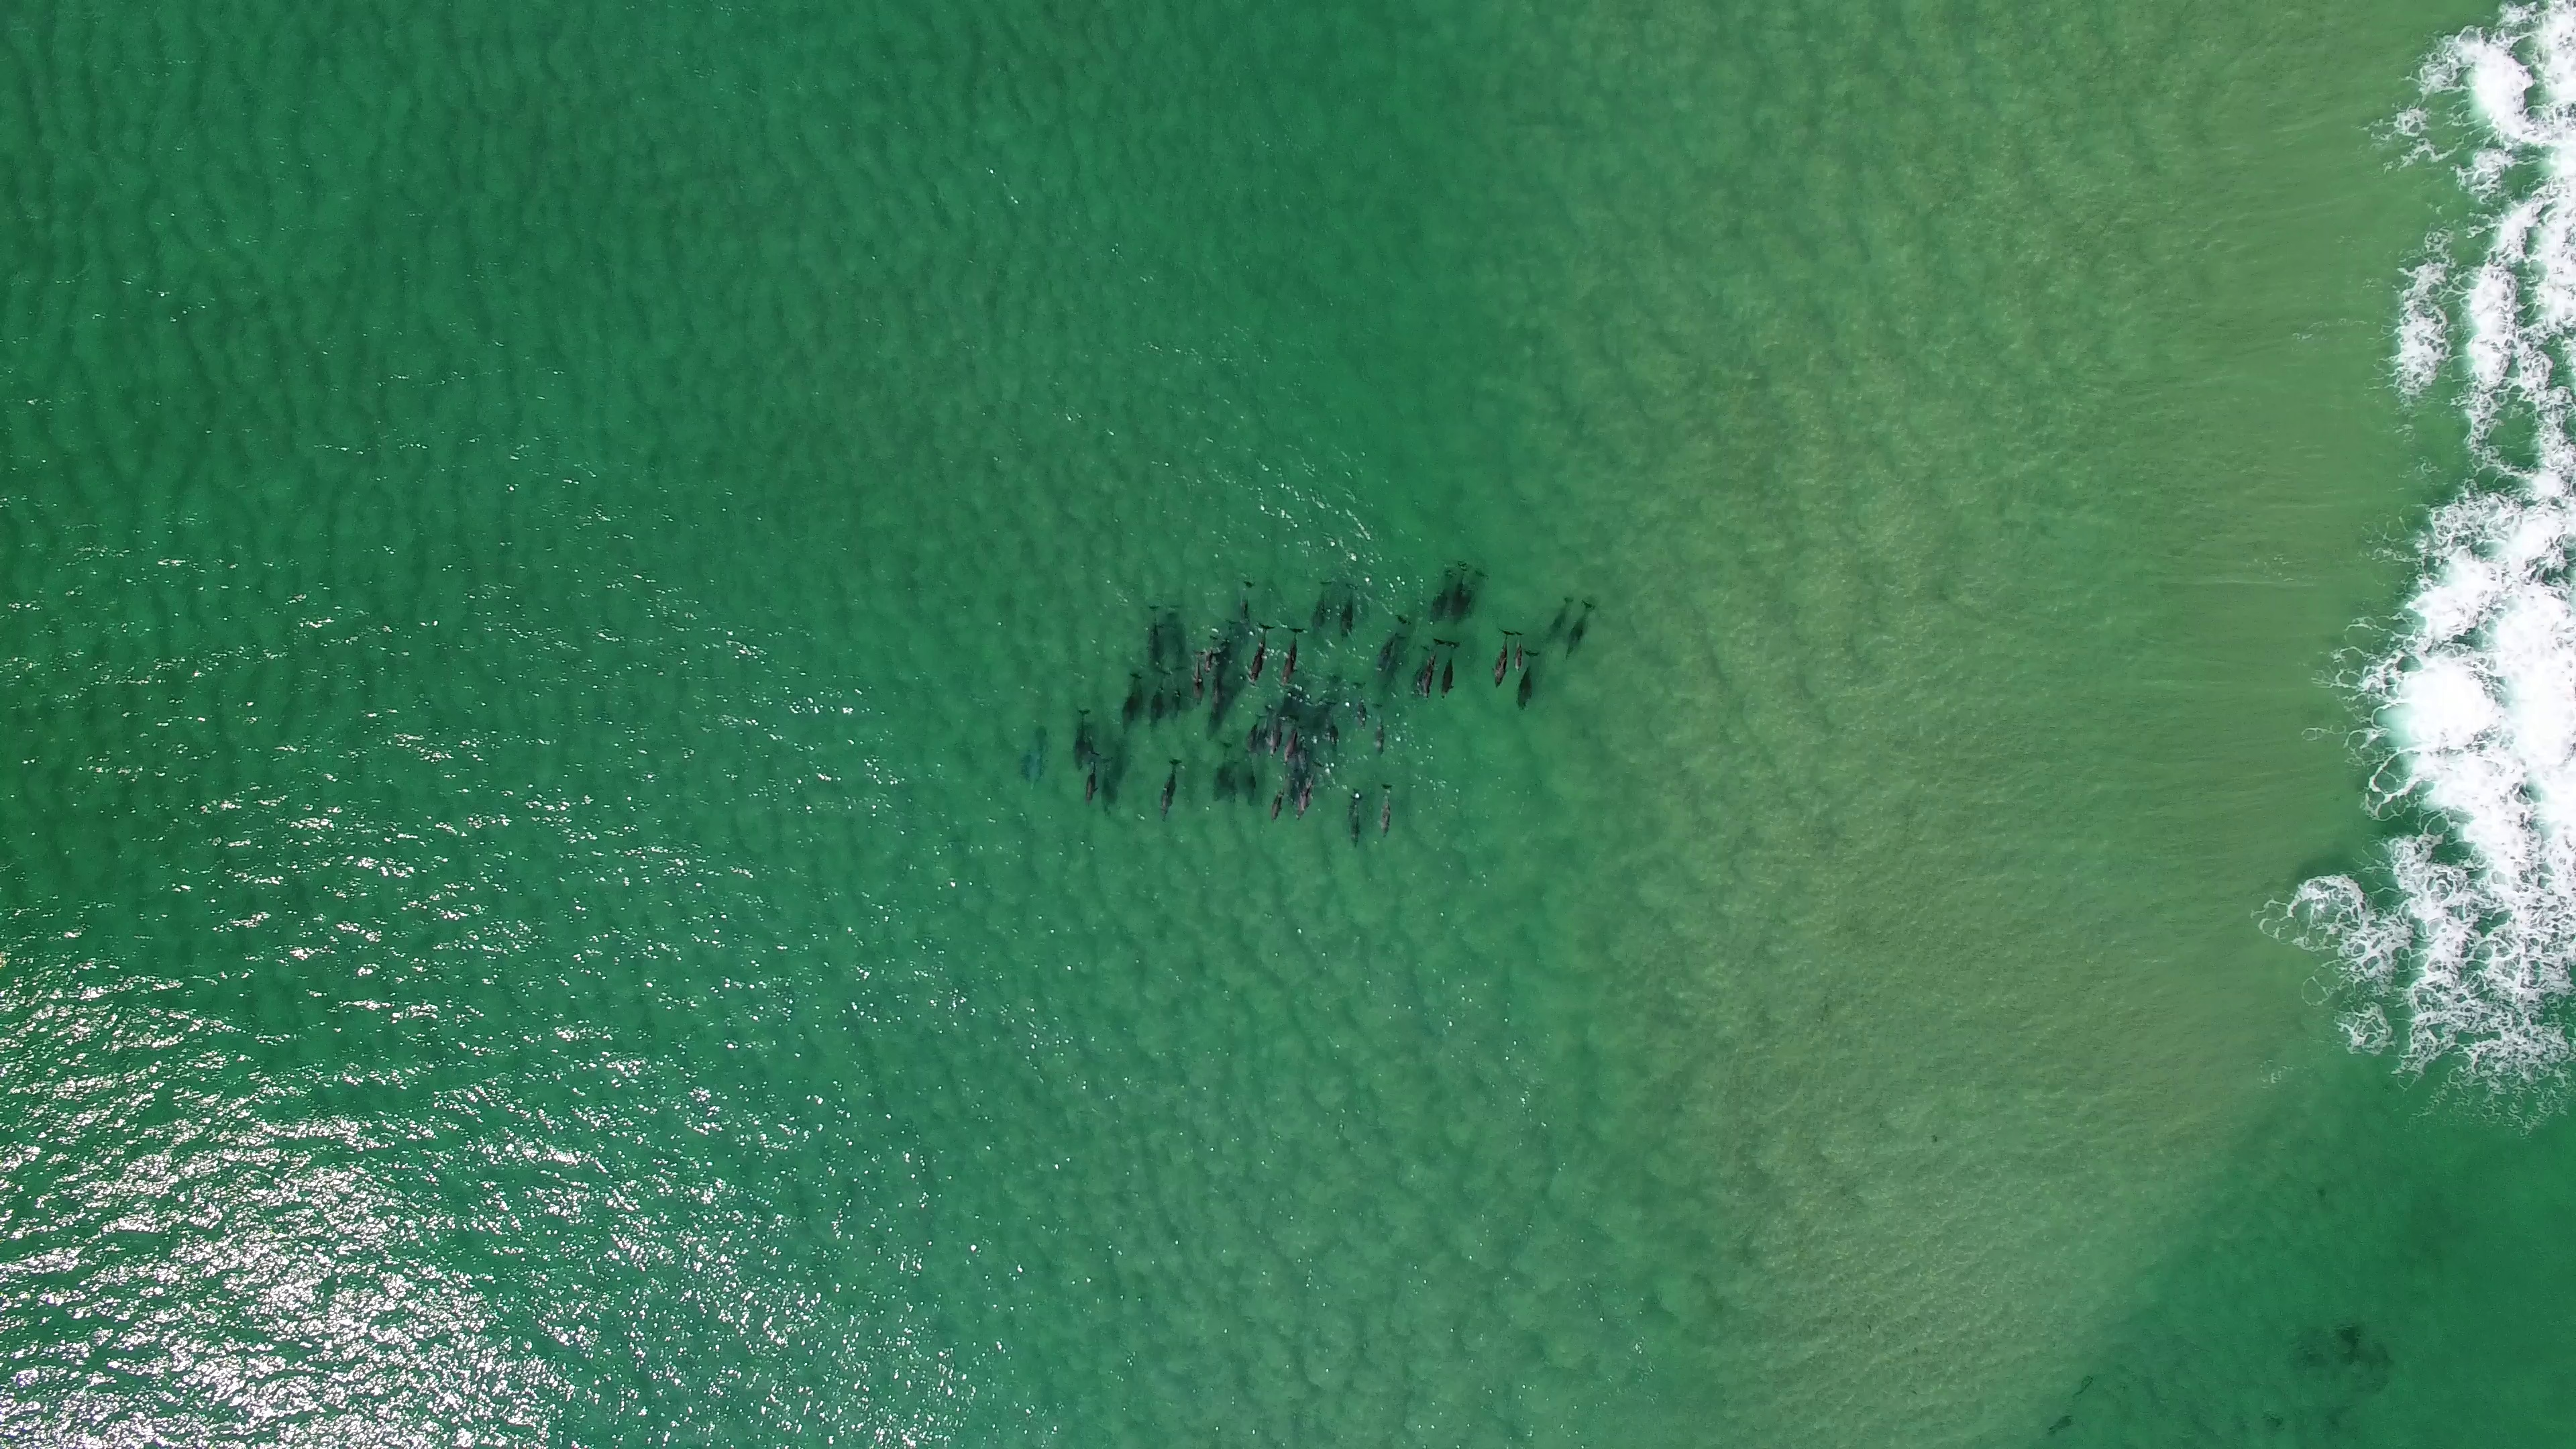dolphin: (1295, 757, 1327, 821), (1376, 612, 1408, 672), (1566, 600, 1598, 658), (1157, 755, 1184, 824), (1146, 665, 1171, 734), (1380, 635, 1408, 695), (1249, 621, 1274, 688), (1279, 625, 1306, 685), (1445, 557, 1472, 616), (1422, 633, 1445, 701), (1458, 566, 1488, 617), (1516, 648, 1541, 709), (1120, 671, 1143, 736), (1233, 579, 1258, 639), (1215, 619, 1240, 679), (1438, 637, 1461, 701), (1428, 568, 1454, 623), (1208, 658, 1230, 725), (1543, 594, 1573, 640), (1265, 702, 1290, 757), (1339, 580, 1362, 637), (1072, 708, 1092, 773), (1269, 770, 1293, 821), (1311, 577, 1334, 632), (1375, 780, 1396, 839), (1212, 741, 1231, 803), (1412, 642, 1433, 699), (1169, 662, 1187, 725), (1100, 755, 1116, 821), (1493, 621, 1507, 690), (1322, 699, 1341, 748), (1083, 748, 1099, 809), (1146, 602, 1161, 669), (1192, 648, 1207, 713), (1371, 701, 1387, 757), (1352, 787, 1366, 849), (1284, 713, 1302, 763), (1352, 679, 1369, 727), (1244, 713, 1265, 752), (1201, 630, 1219, 676), (1256, 706, 1272, 752), (1513, 628, 1525, 667), (1345, 787, 1361, 817)
